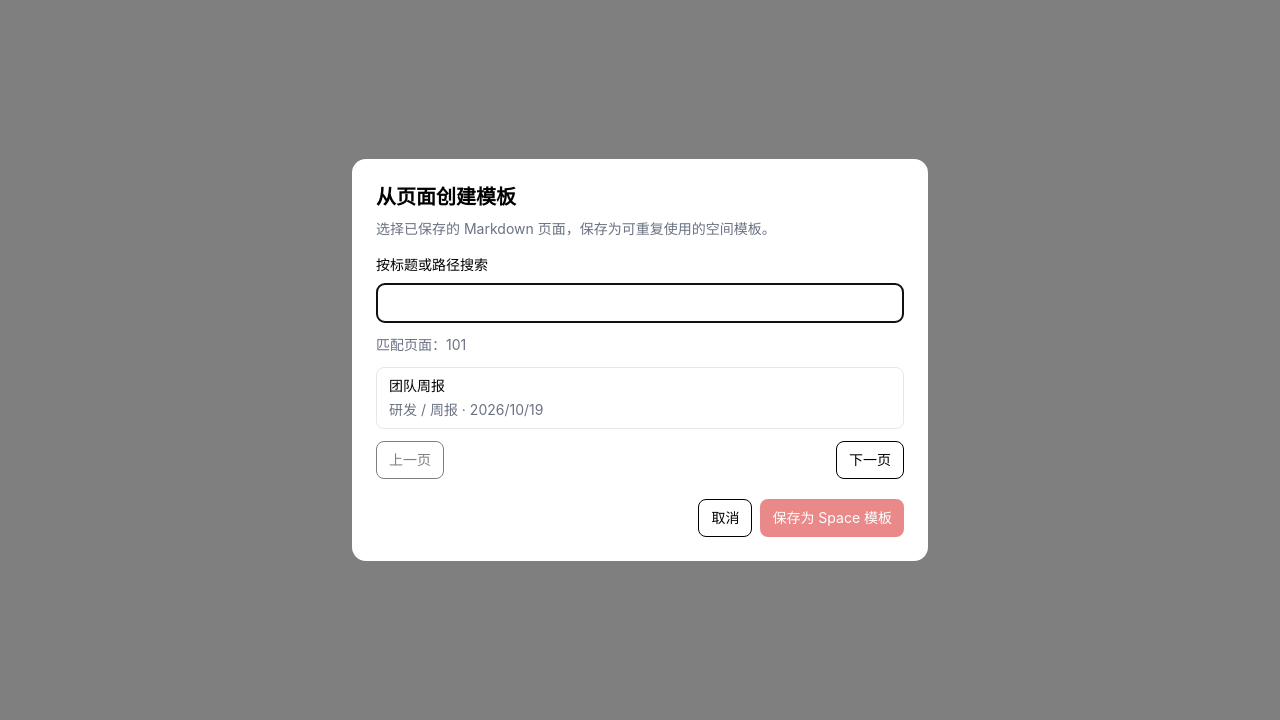
Test: CreatePageTemplateDialog › loads later source pages and retries the current failed page
The width and height of the screenshot is (1280, 720).
Click the button "下一页": (870, 460) x1=836 y1=441 x2=904 y2=479
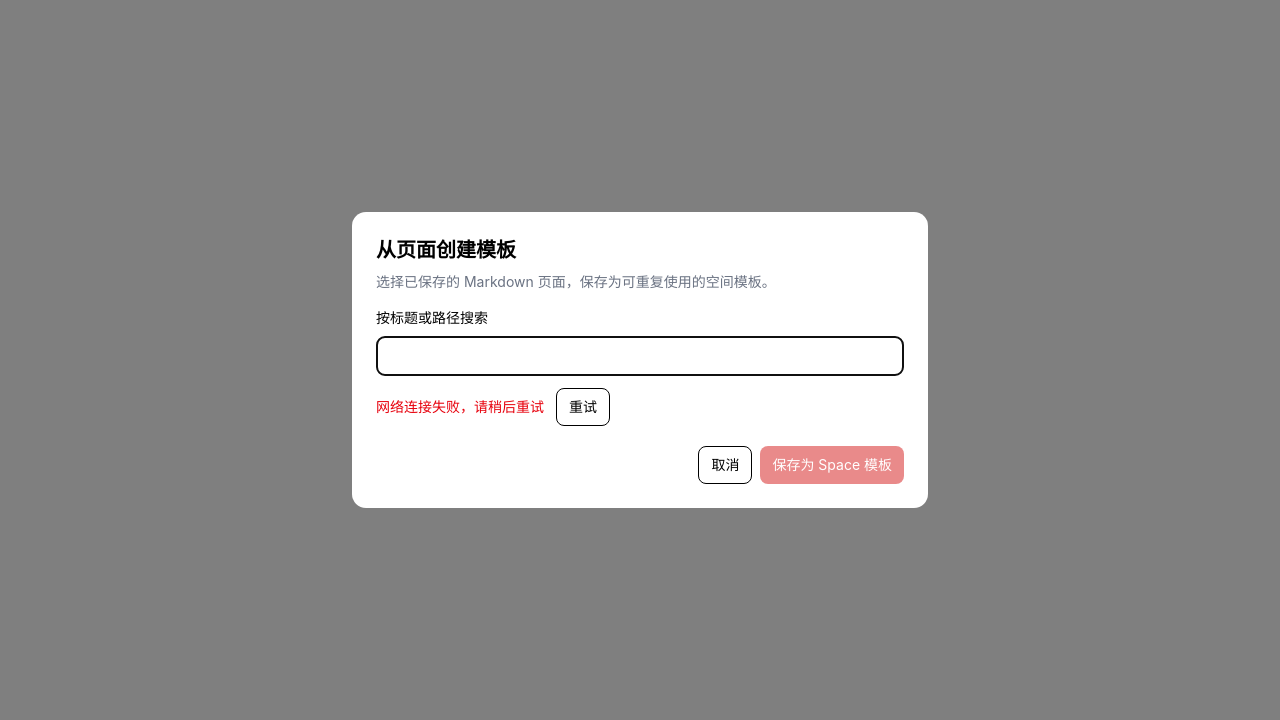
Expected: the button "保存为 Space 模板" is disabled, x1=760 y1=446 x2=904 y2=484
Expected: the message reads "网络连接失败，请稍后重试", x1=376 y1=398 x2=544 y2=415
Click the button "重试": (583, 407) x1=556 y1=388 x2=610 y2=426
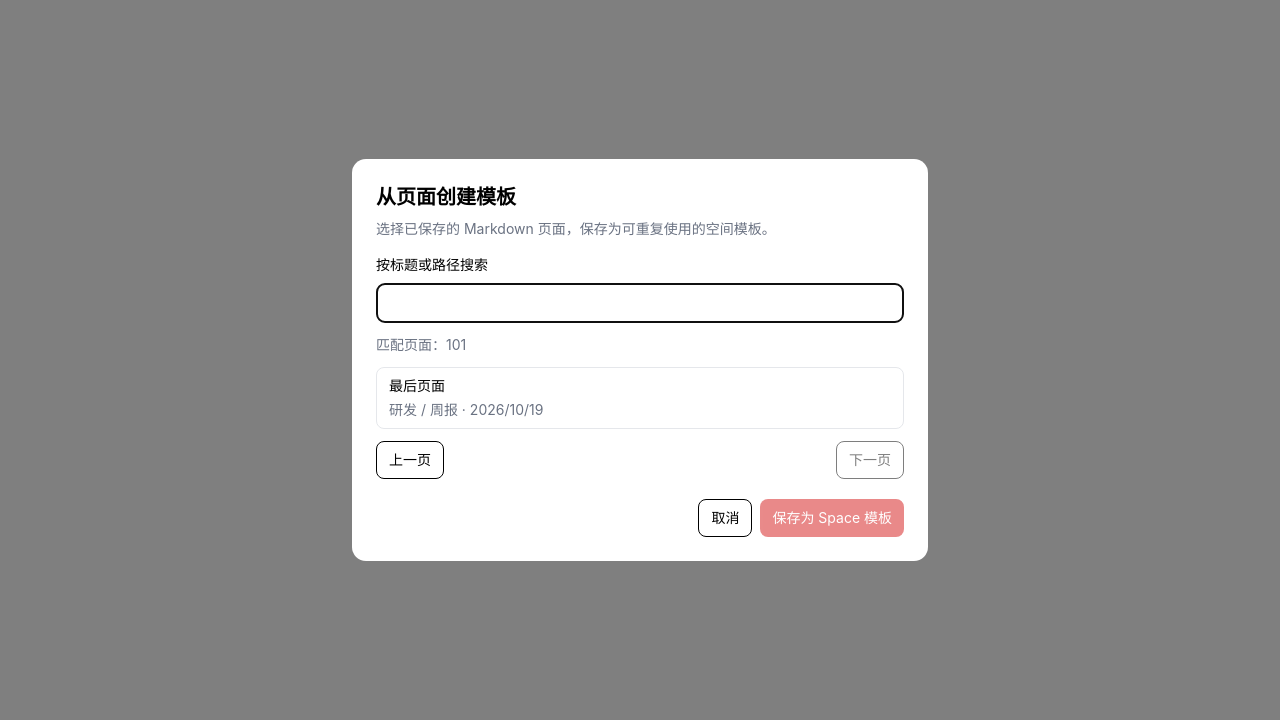
Expected: the button "最后页面 研发 / 周报 · 2026/10/19" is shown, x1=376 y1=367 x2=904 y2=429
Expected: the button "下一页" is disabled, x1=836 y1=441 x2=904 y2=479
